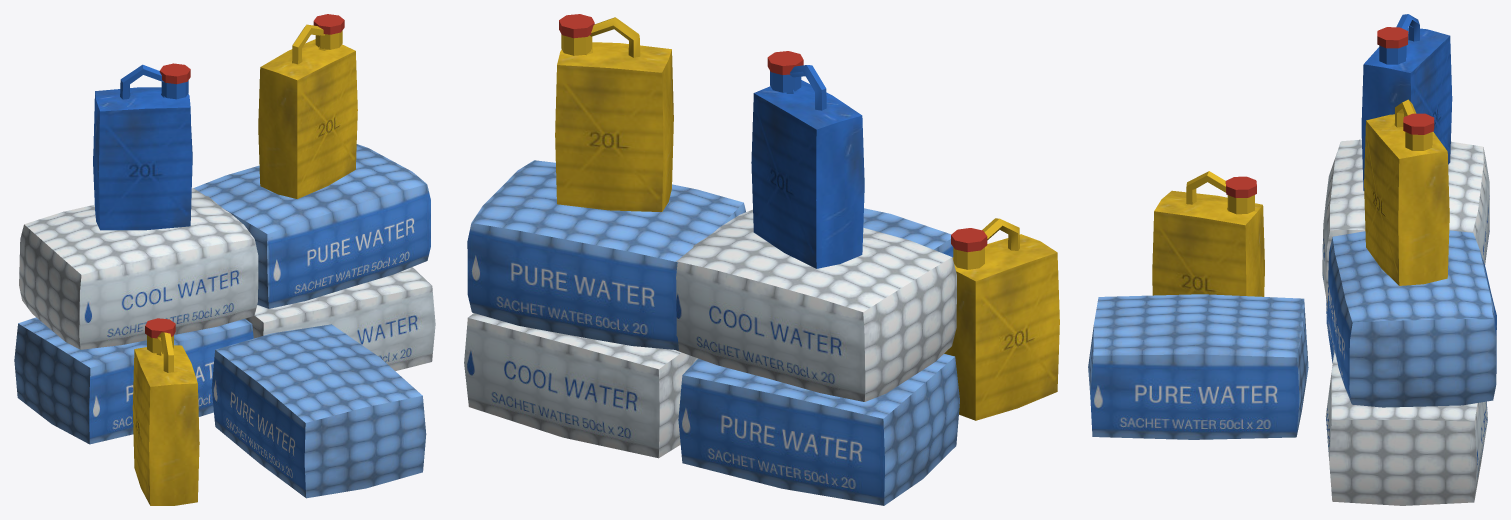
File: prop_soft_cartons.glb
3 renders of one model, left to right at view 1: azimuth 30°, elevation 25°; view 2: azimuth 150°, elevation 25°; view 3: azimuth 270°, elevation 25°, orthographic. The views are drawn at different scales.
Visible parts, largest first — view 1: prop_soft_cartons_body; view 2: prop_soft_cartons_body; view 3: prop_soft_cartons_body.
Part boxes in pixels (left/top/right/bottom): prop_soft_cartons_body: left=14, top=14, right=435, bottom=505; prop_soft_cartons_body: left=464, top=14, right=1059, bottom=505; prop_soft_cartons_body: left=1088, top=14, right=1496, bottom=505.
Size of the model in its own units: 0.8466 by 0.7455 by 0.763.
1 material, 1 textured.
